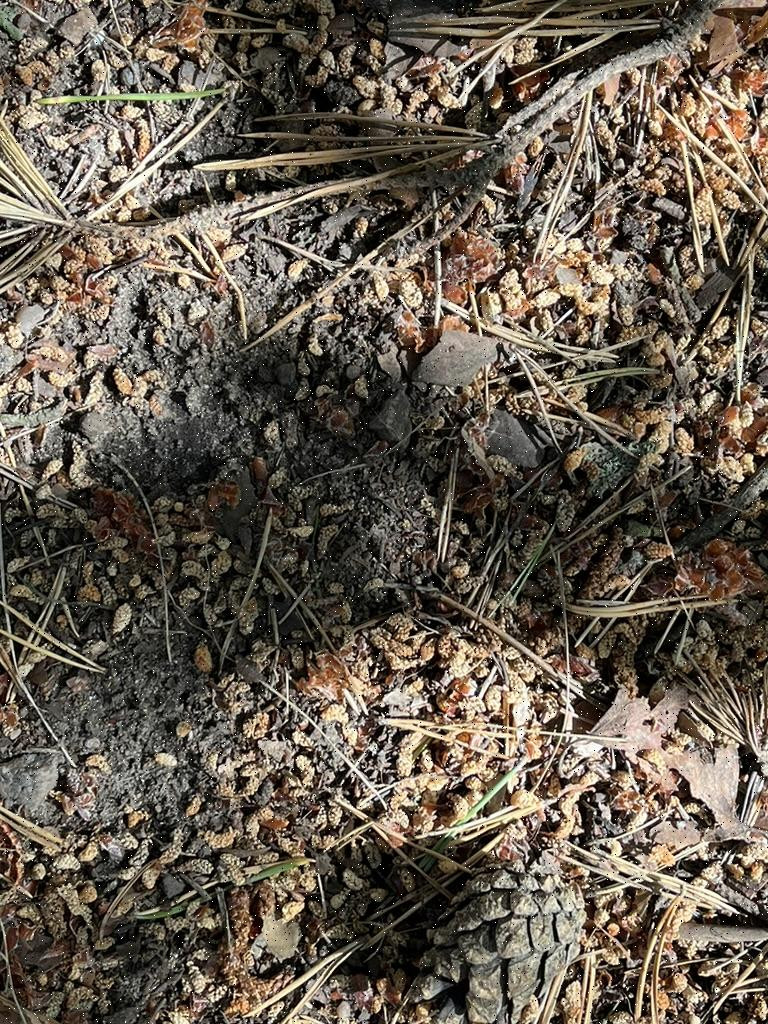pine: (406, 843, 601, 1024)
